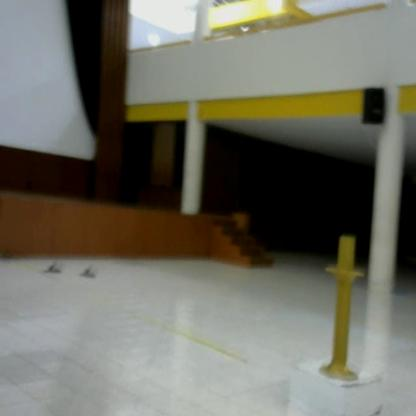pole: (320, 234, 370, 389)
